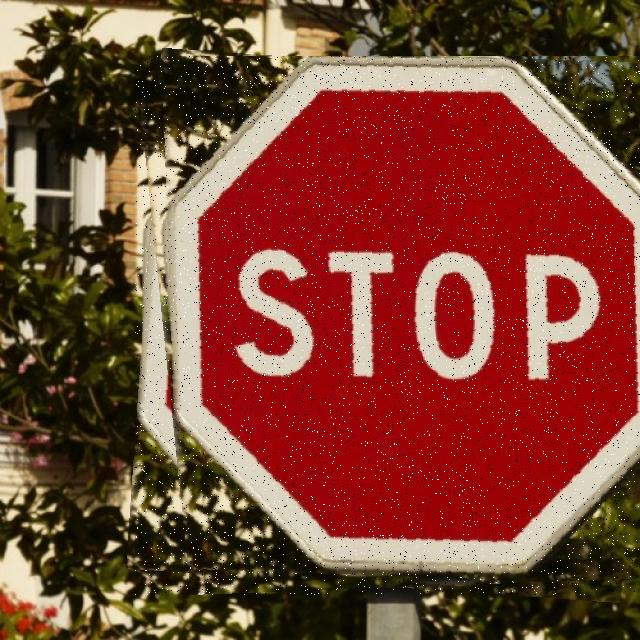stop: (135, 56, 640, 595)
